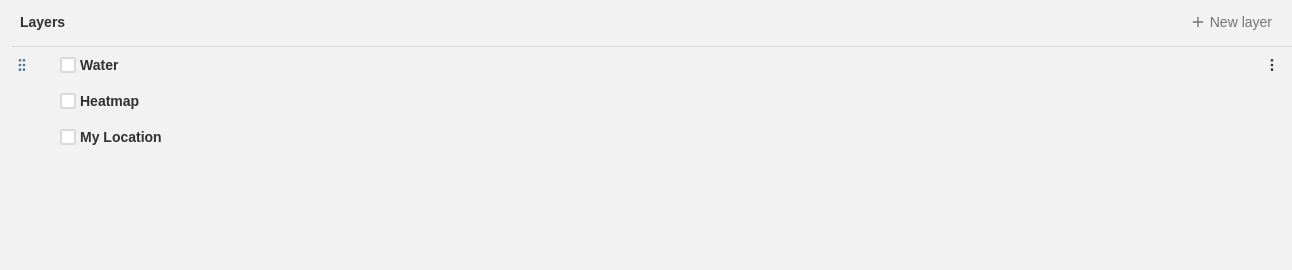
Test: LayerTreePanel › renames a layer through its kebab menu
The width and height of the screenshot is (1292, 270).
Click the button named "options for water": (1272, 65) [1260,53,1284,77]
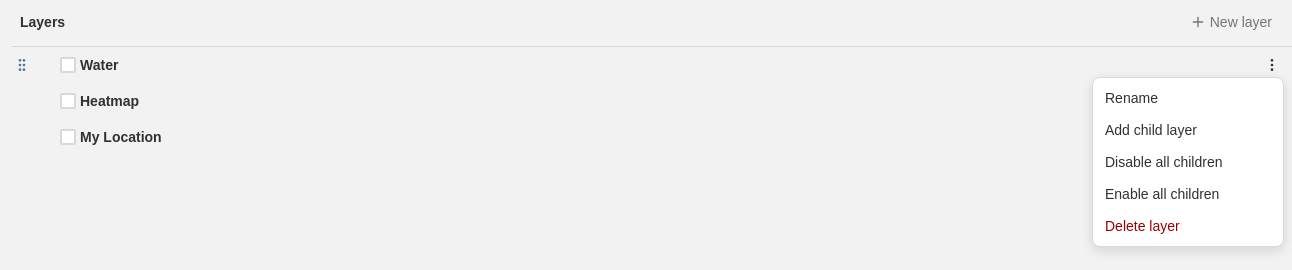
Click the menu item "Rename": (1131, 98) [1105,90,1158,106]
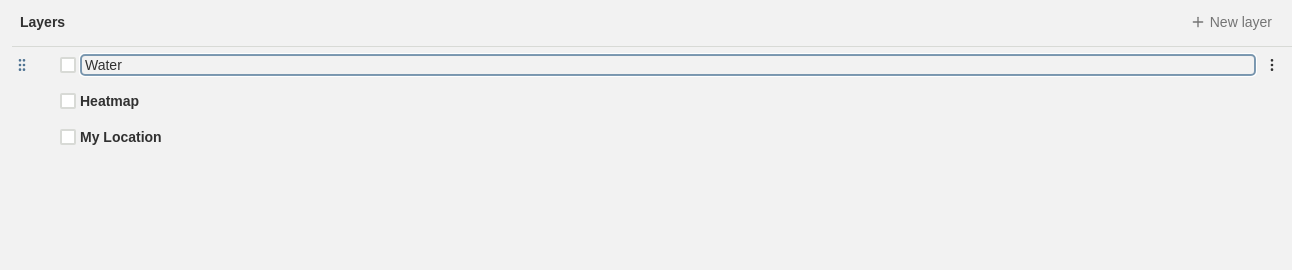
In the field showing "Water": (668, 65) [80,54,1256,76], type "Renamed water"
Then press Enter
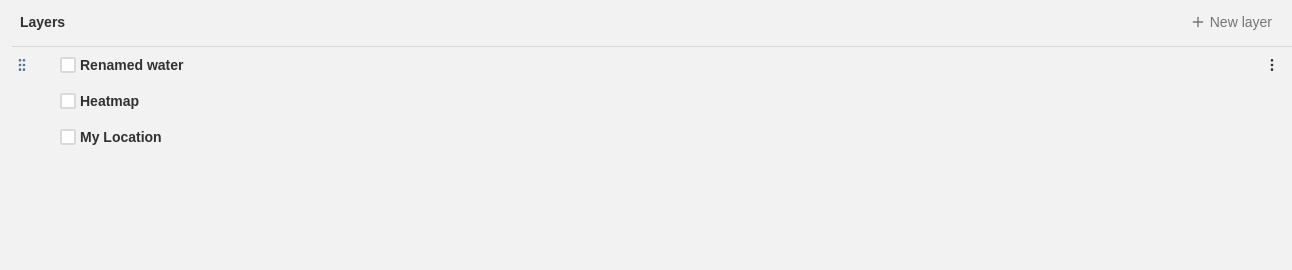
Now the button "Renamed water" reads "Renamed water", box [80,55,1256,75]
